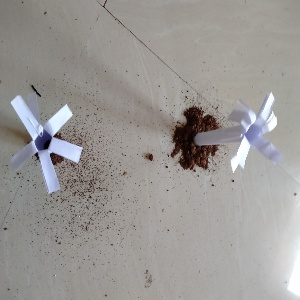weed: (189, 101, 281, 177), (5, 96, 81, 183)
